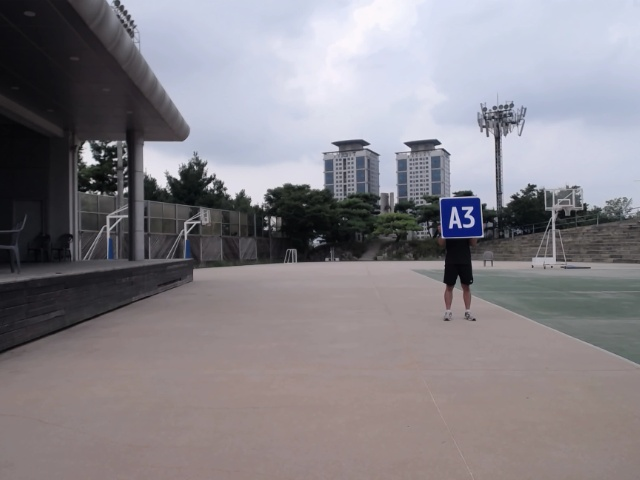delivery_a3: (439, 197, 484, 238)
